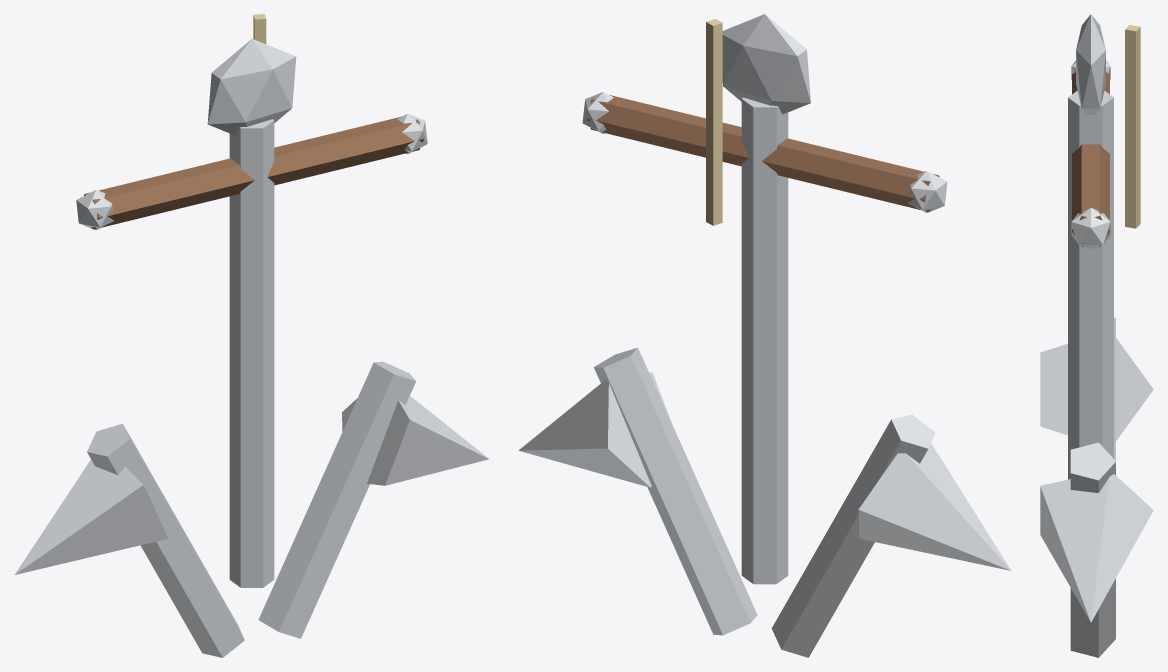
Rendered from anchor.glb.
The picture shows the model from 3 angles, left to right: view 1: azimuth 30°, elevation 25°; view 2: azimuth 150°, elevation 25°; view 3: azimuth 270°, elevation 25°; orthographic projection. The views are drawn at different scales.
Parts seen in each view (by area): view 1: shank, arm_1, stock, arm_0, fluke_0, ring, fluke_1, stock_end_0, stock_end_1; view 2: shank, arm_1, stock, fluke_0, arm_0, fluke_1, ring, rope.002, stock_end_0, stock_end_1; view 3: shank, fluke_1, fluke_0, arm_1, rope.002, stock, ring, stock_end_1, arm_0.
Boxes of the visible parts, x1,y1,x2,y2 form: shank: (229,119,274,587); arm_1: (258,361,416,638); stock: (84,116,423,229); arm_0: (87,423,244,657); fluke_0: (15,459,168,574); ring: (207,38,296,135); fluke_1: (342,396,489,485); stock_end_0: (76,189,114,230); stock_end_1: (397,113,427,154); shank: (741,97,788,584); arm_1: (593,347,757,635); stock: (586,95,939,211); fluke_0: (858,443,1011,570); arm_0: (771,414,935,657); fluke_1: (519,372,670,487); ring: (722,14,810,114); rope.002: (706,19,722,225); stock_end_0: (908,171,947,212); stock_end_1: (582,92,613,133); shank: (1068,90,1113,479); fluke_1: (1040,474,1153,622); fluke_0: (1040,338,1153,440); arm_1: (1070,442,1115,657); rope.002: (1125,25,1140,228); stock: (1072,71,1109,246); ring: (1076,14,1105,114); stock_end_1: (1071,207,1110,249); arm_0: (1114,318,1115,460).
Size of the model in its own units: 1.34 by 1.64 by 0.2714.
